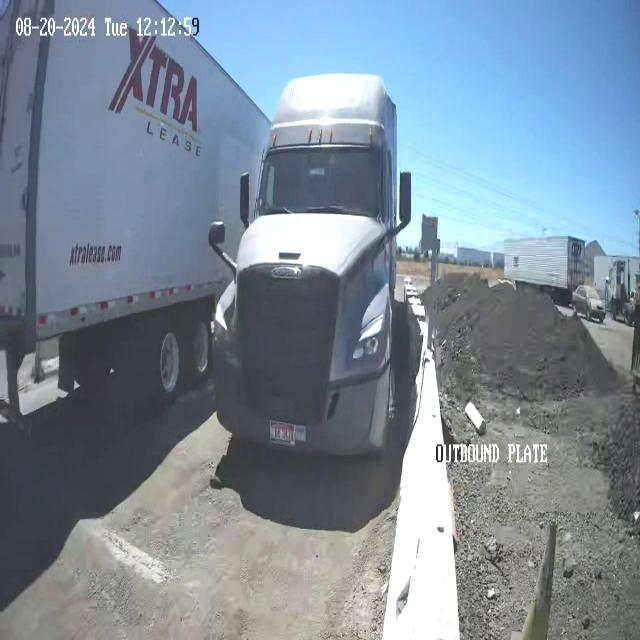CONTAINER: (0, 0, 240, 344)
